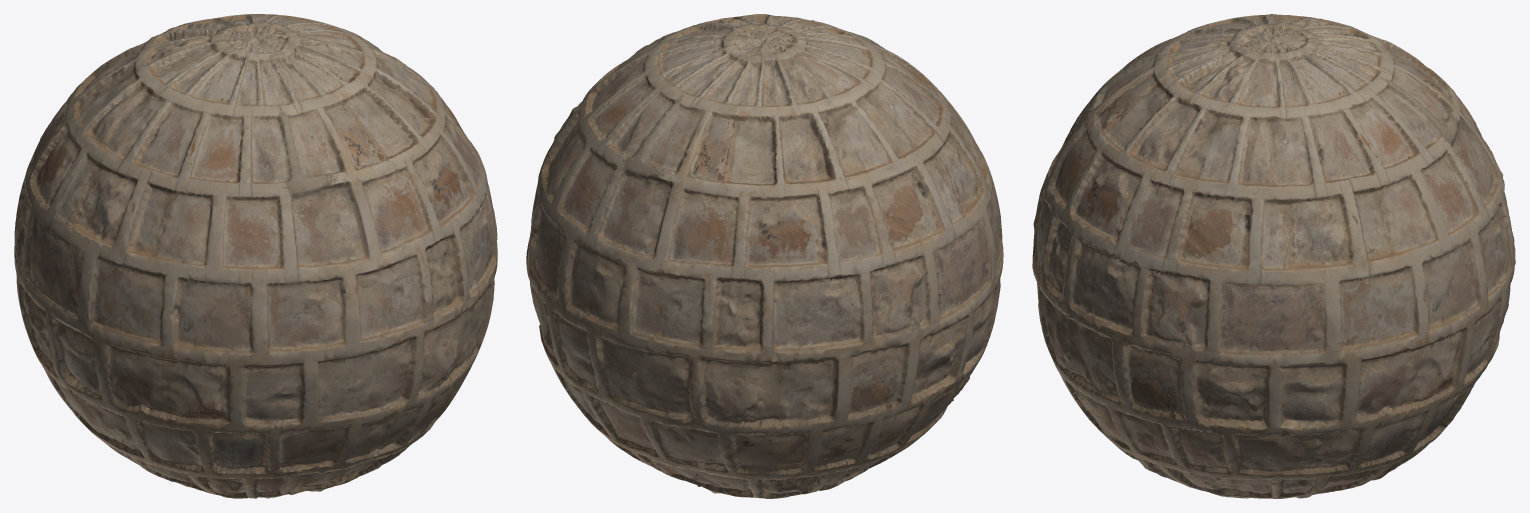
File: red_sandstone_wall_2k.gltf
3 views of the same model, side by side, from view 1: azimuth 30°, elevation 25°; view 2: azimuth 150°, elevation 25°; view 3: azimuth 270°, elevation 25° (orthographic).
Visible parts, largest first — view 1: sphere_gltf; view 2: sphere_gltf; view 3: sphere_gltf.
Part boxes in pixels (x1,y1,x2,y2): sphere_gltf: [14, 14, 497, 498]; sphere_gltf: [526, 14, 1003, 498]; sphere_gltf: [1032, 14, 1515, 498].
Bounding box in the file's own units: 2.04 × 2.06 × 2.04.
1 material, 1 textured.
